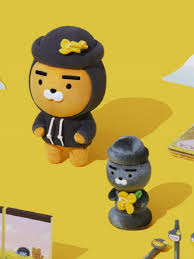Stone Statue: (93, 134, 158, 238)
